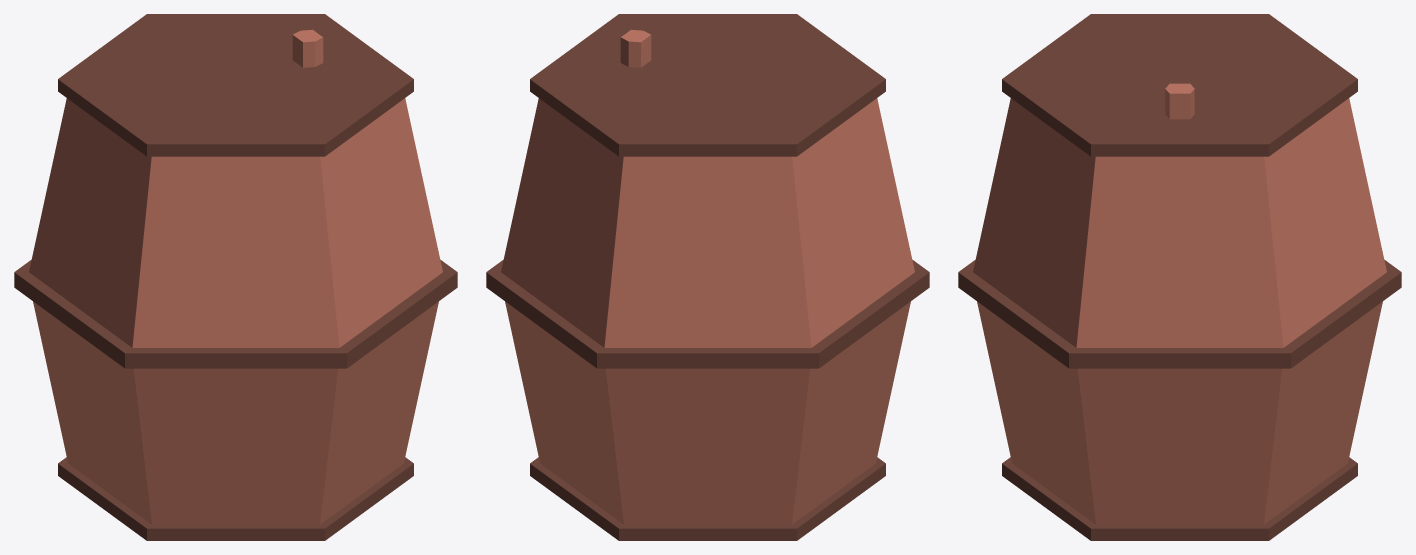
File: barrel.fbx
3 renders of one model, left to right at view 1: azimuth 30°, elevation 25°; view 2: azimuth 150°, elevation 25°; view 3: azimuth 270°, elevation 25°, orthographic.
Visible parts, largest first — view 1: Barrel; view 2: Barrel; view 3: Barrel.
Boxes of the visible parts, x1=… form: Barrel: x1=14, y1=14, x2=457, y2=540; Barrel: x1=486, y1=14, x2=929, y2=540; Barrel: x1=958, y1=14, x2=1401, y2=540.
Size of the model in its own units: 187 by 227 by 216.
